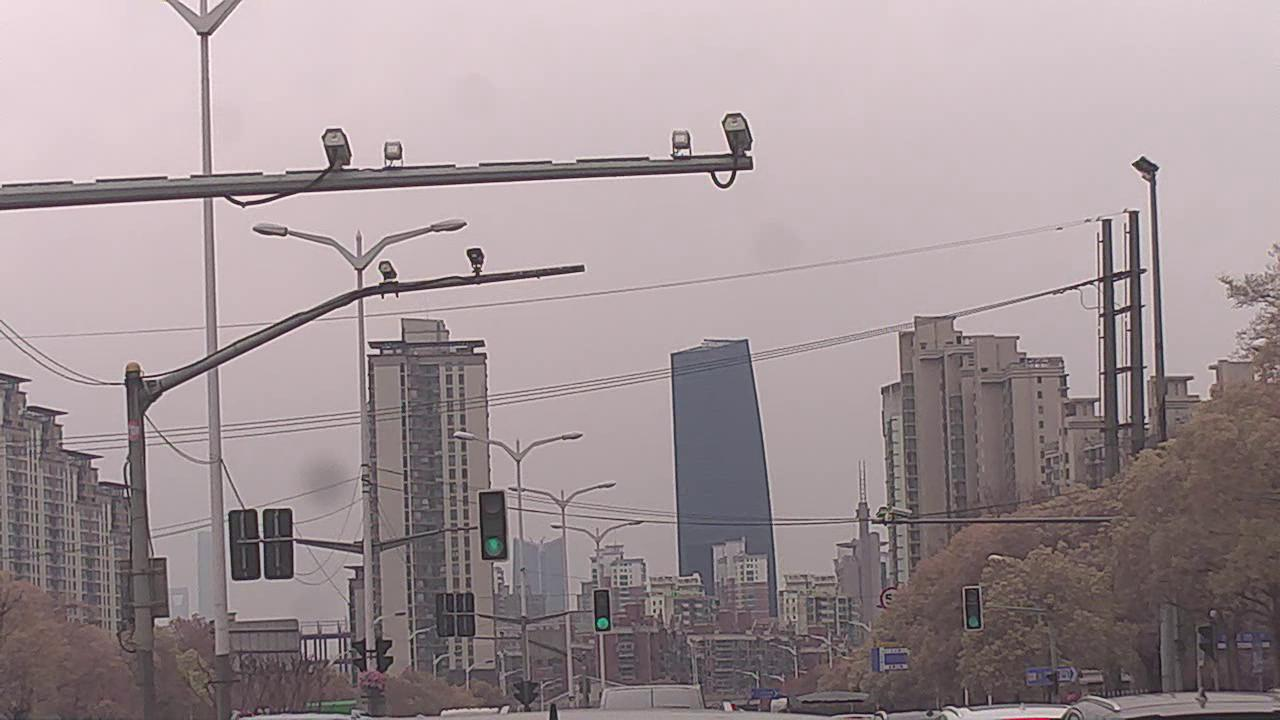traffic_light: (479, 488, 510, 563), (965, 583, 984, 629), (593, 588, 613, 630)
